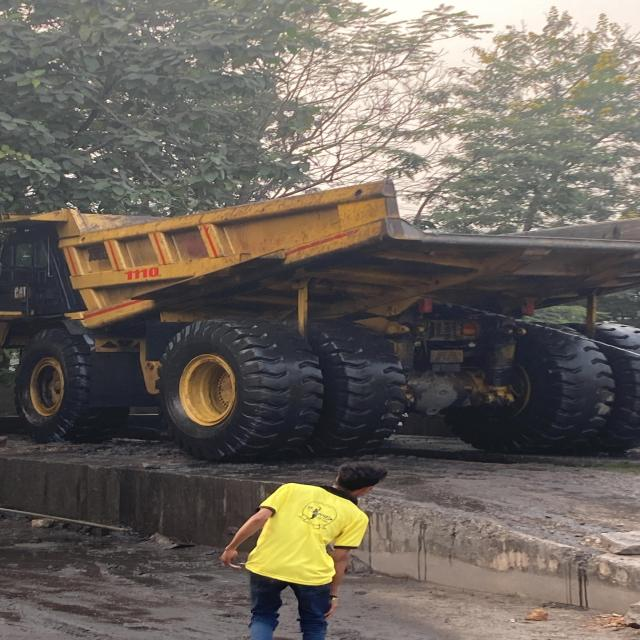dump_truck: (4, 174, 640, 453)
